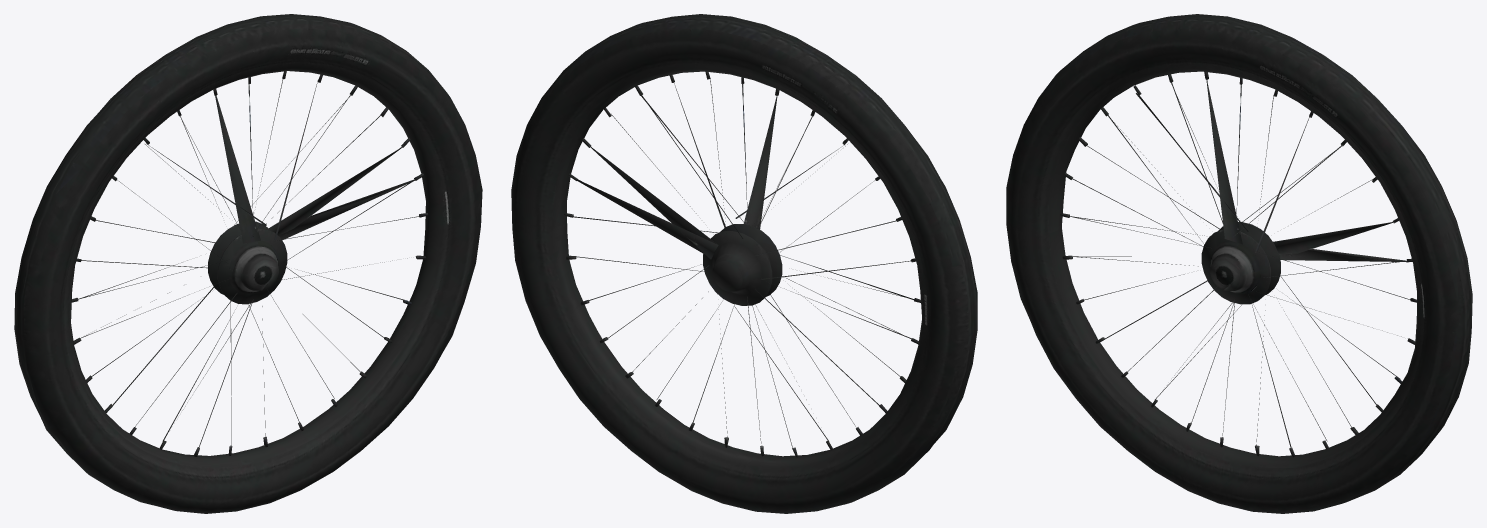
The model's file is bike-wheel.glb.
3 renders of one model, left to right at view 1: azimuth 30°, elevation 25°; view 2: azimuth 150°, elevation 25°; view 3: azimuth 330°, elevation 25°, orthographic.
Bounding box in the file's own units: 0.9458 × 0.9497 × 0.1108.
1 material, 1 textured.
